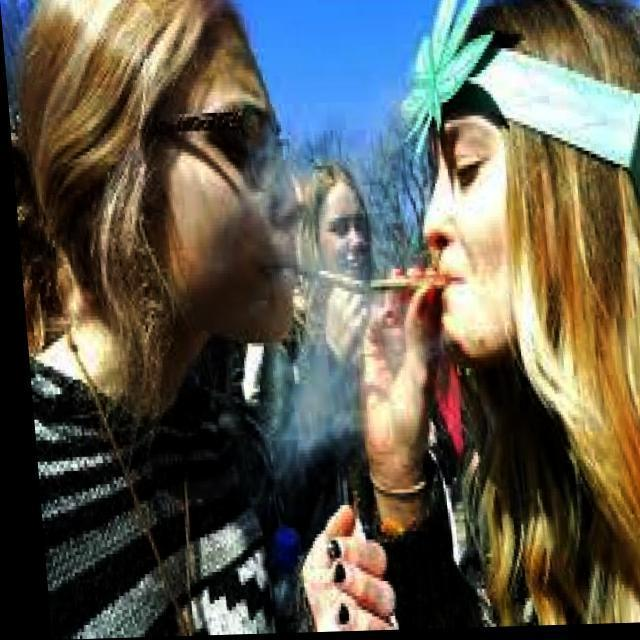Smoke: (219, 84, 454, 504)
